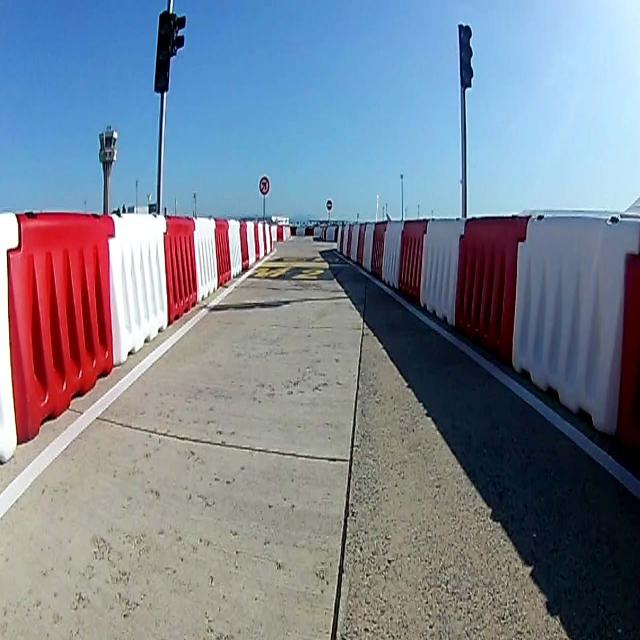soladonulmez: (260, 178, 270, 195)
